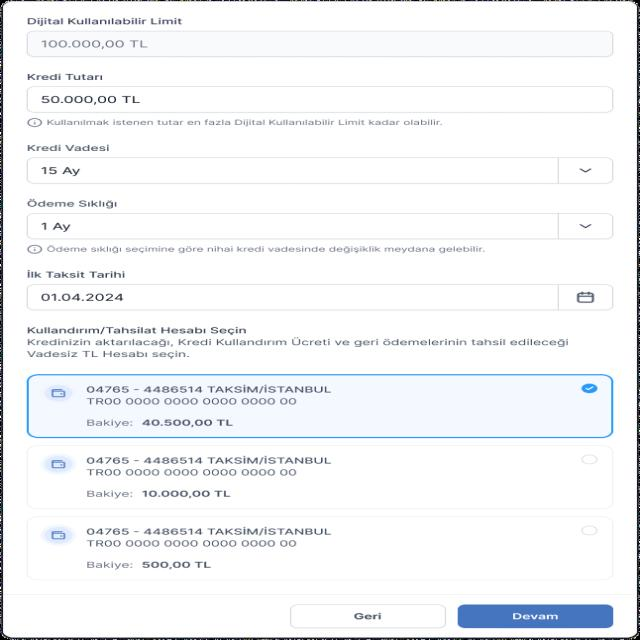QLabel: (45, 244, 488, 256), (23, 338, 572, 347), (45, 118, 446, 128), (81, 525, 332, 537), (83, 538, 309, 550), (83, 384, 331, 394), (83, 455, 331, 465), (85, 467, 300, 478), (22, 326, 248, 336), (87, 396, 300, 406), (22, 349, 194, 361), (24, 16, 186, 27), (26, 197, 124, 210), (25, 269, 128, 280), (141, 488, 237, 499), (140, 419, 234, 429), (25, 72, 107, 83), (140, 560, 211, 571), (26, 144, 112, 153), (508, 612, 569, 624), (83, 487, 136, 499), (82, 560, 136, 570), (342, 610, 391, 621), (85, 418, 134, 428)
VBtn: (291, 604, 447, 629), (458, 604, 613, 628)
VCard: (1, 0, 640, 640), (27, 516, 615, 582), (26, 444, 613, 509), (28, 374, 612, 439)
VCheckbox: (27, 157, 614, 185), (27, 212, 614, 240)
VDivider: (2, 590, 640, 598)
VIcon: (42, 454, 76, 473), (42, 525, 74, 544), (44, 385, 72, 401), (24, 244, 44, 257), (26, 116, 44, 129)
VInlineDatepicker: (27, 283, 614, 310)
VTextField: (26, 85, 614, 114), (27, 31, 614, 57)
